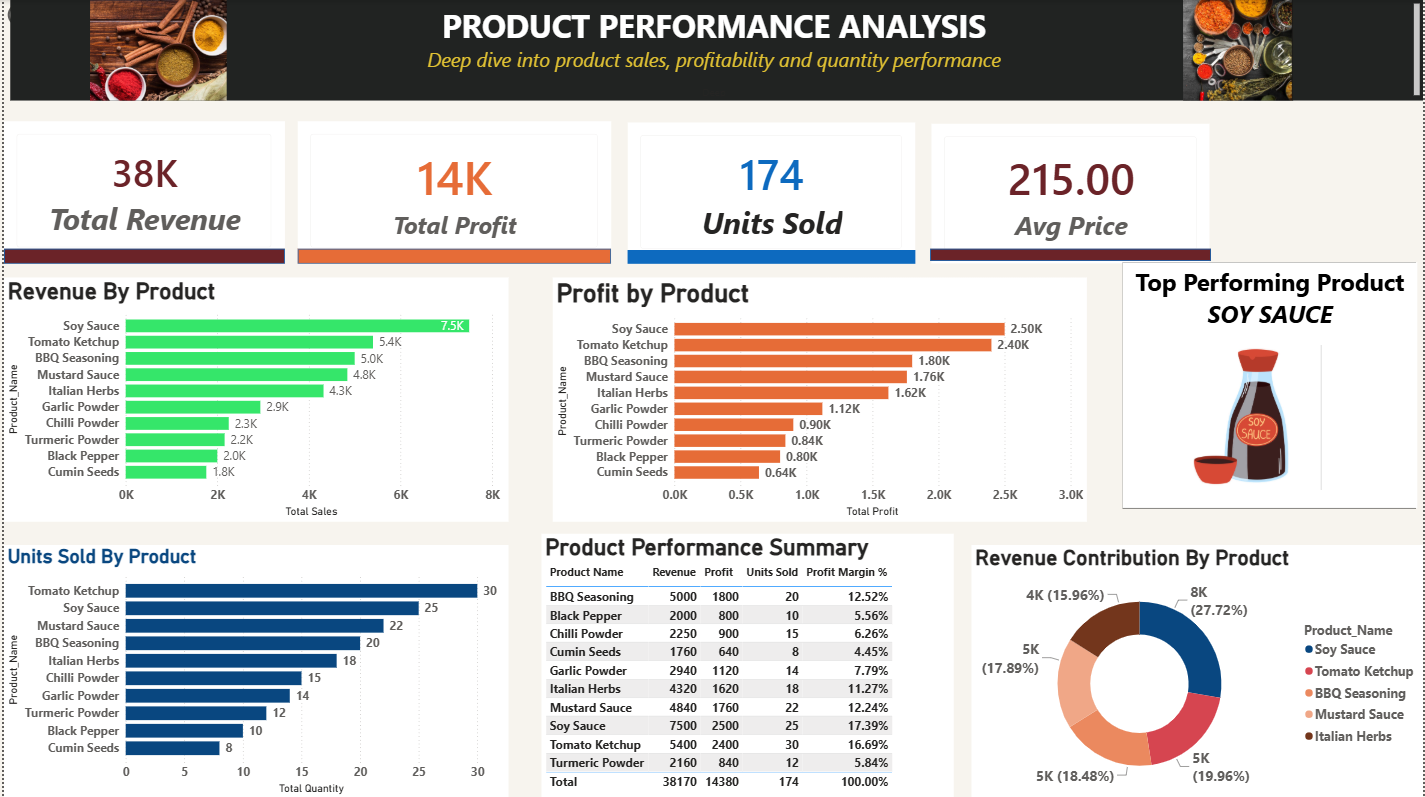

This screenshot's page, from the dashboard's own definition file:
{"tool":"powerbi","page":{"name":"Product Performance Analysis","canvas":[1920,1080],"ordinal":1},"visuals":[{"type":"group","id":"g1","title":"Group 1","box":[9.2,0,1911.3,135.7],"z":0,"group":"g7"},{"type":"textbox","box":[9.2,0,1911.3,135.7],"z":0,"group":"g1"},{"type":"cardVisual","fields":{"Data":["Sales_data.Total Quantity"]},"box":[843.8,165.1,388.9,188.9],"z":0,"group":"g3"},{"type":"group","id":"g2","title":"Group 2","box":[1252.8,166.9,379.7,188.9],"z":0},{"type":"cardVisual","fields":{"Data":["Sales_data.Avg Price"]},"box":[1254.6,166.9,376,188.9],"z":0,"group":"g2"},{"type":"textbox","box":[1513.3,355.8,398,332],"z":0,"group":"g6"},{"type":"cardVisual","fields":{"Data":["Sales_data.Total Sales"]},"box":[0,163.2,379.7,188.9],"z":3,"group":"g5"},{"type":"cardVisual","fields":{"Data":["Sales_data.Total Profit"]},"box":[398,163.2,423.7,188.9],"z":4,"group":"g4"},{"type":"shape","box":[398,335.6,423.7,20.2],"z":11,"group":"g4"},{"type":"shape","box":[0,335.6,379.7,20.2],"z":13,"group":"g5"},{"type":"image","box":[111.9,0,194.4,135.7],"z":1000,"group":"g1"},{"type":"group","id":"g3","title":"Group 3","box":[843.8,165.1,388.9,190.8],"z":1000},{"type":"shape","box":[1252.8,335.7,379.7,16.5],"z":1000,"group":"g2"},{"type":"shape","box":[843.8,337.5,388.9,18.3],"z":1000,"group":"g3"},{"type":"image","box":[1584.8,467.7,198.1,196.3],"z":1000,"group":"g6"},{"type":"group","id":"g4","title":"Group 4","box":[398,163.2,423.7,192.6],"z":2000},{"type":"group","id":"g5","title":"Group 5","box":[0,163.2,379.7,192.6],"z":3000},{"type":"clusteredBarChart","title":"Revenue By Product","fields":{"Category":["product_data.Product_Name"],"Y":["Sales_data.Total Sales"]},"box":[0,376,682.3,330.2],"z":4000},{"type":"image","box":[1513.3,0,311.8,135.7],"z":4010,"group":"g7"},{"type":"barChart","title":"Profit by Product","fields":{"Category":["product_data.Product_Name"],"Y":["Sales_data.Total Profit"]},"box":[742.9,376,722.7,330.2],"z":5000},{"type":"barChart","title":"Units Sold By Product","fields":{"Category":["product_data.Product_Name"],"Y":["Sales_data.Total Quantity"]},"box":[0,737.4,682.3,343],"z":6000},{"type":"tableEx","title":"Product Performance Summary","fields":{"Values":["product_data.Product_Name","Sales_data.Total Sales","Sales_data.Total Profit","Sales_data.Total Quantity","Sum(Sales_data.Profit)"]},"box":[726.4,722.7,557.6,357.7],"z":7000},{"type":"actionButton","box":[0,0,100,40],"z":8000},{"type":"donutChart","title":"Revenue Contribution By Product","fields":{"Category":["product_data.Product_Name"],"Y":["Sales_data.Total Sales"]},"box":[1307.8,737.4,612.6,343],"z":9000},{"type":"group","id":"g6","title":"Group 6","box":[1513.3,355.8,398,332],"z":10000},{"type":"group","id":"g7","title":"Group 7","box":[9.2,0,1911.3,135.7],"z":11000}]}

Visuals, with their boxes in screenshot pixels (x1, y1, x2, y2), scaled from the page's 1920x1080 canvas onto the 1425x797 screenshot:
"Group 1" group: box(7, 0, 1424, 100)
textbox: box(7, 0, 1424, 100)
cardVisual - Sales_data.Total Quantity: box(626, 122, 915, 261)
"Group 2" group: box(930, 123, 1212, 263)
cardVisual - Sales_data.Avg Price: box(931, 123, 1210, 263)
textbox: box(1123, 263, 1419, 508)
cardVisual - Sales_data.Total Sales: box(0, 120, 282, 260)
cardVisual - Sales_data.Total Profit: box(295, 120, 610, 260)
shape: box(295, 248, 610, 263)
shape: box(0, 248, 282, 263)
image: box(83, 0, 227, 100)
"Group 3" group: box(626, 122, 915, 263)
shape: box(930, 248, 1212, 260)
shape: box(626, 249, 915, 263)
image: box(1176, 345, 1323, 490)
"Group 4" group: box(295, 120, 610, 263)
"Group 5" group: box(0, 120, 282, 263)
"Revenue By Product" clusteredBarChart: box(0, 277, 506, 521)
image: box(1123, 0, 1355, 100)
"Profit by Product" barChart: box(551, 277, 1088, 521)
"Units Sold By Product" barChart: box(0, 544, 506, 796)
"Product Performance Summary" tableEx: box(539, 533, 953, 796)
actionButton: box(0, 0, 74, 30)
"Revenue Contribution By Product" donutChart: box(971, 544, 1424, 796)
"Group 6" group: box(1123, 263, 1419, 508)
"Group 7" group: box(7, 0, 1424, 100)
